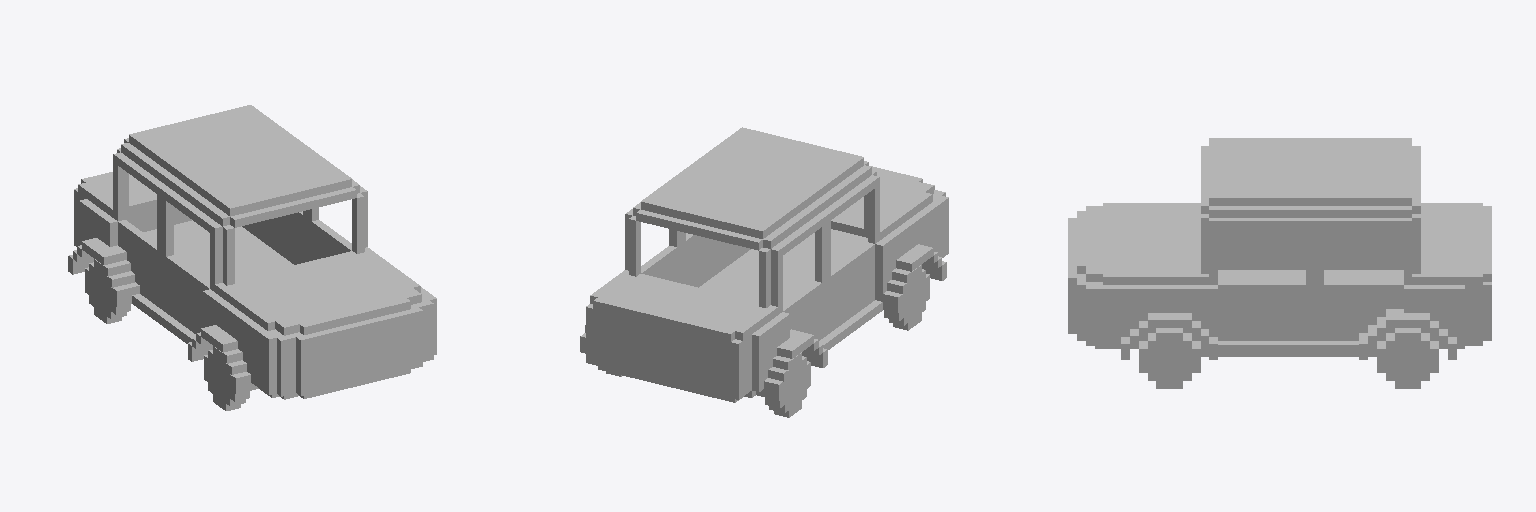
File: sedan.obj
The picture shows the model from 3 angles: view 1: azimuth 30°, elevation 25°; view 2: azimuth 150°, elevation 25°; view 3: azimuth 270°, elevation 25°; orthographic projection.
Visible parts, largest first — view 1: cube; view 2: cube; view 3: cube.
Part boxes in pixels (left/top/right/bottom): cube: left=68, top=105, right=436, bottom=410; cube: left=580, top=127, right=948, bottom=417; cube: left=1068, top=138, right=1491, bottom=388.
Bounding box in the file's own units: 1.62 × 1.38 × 3.